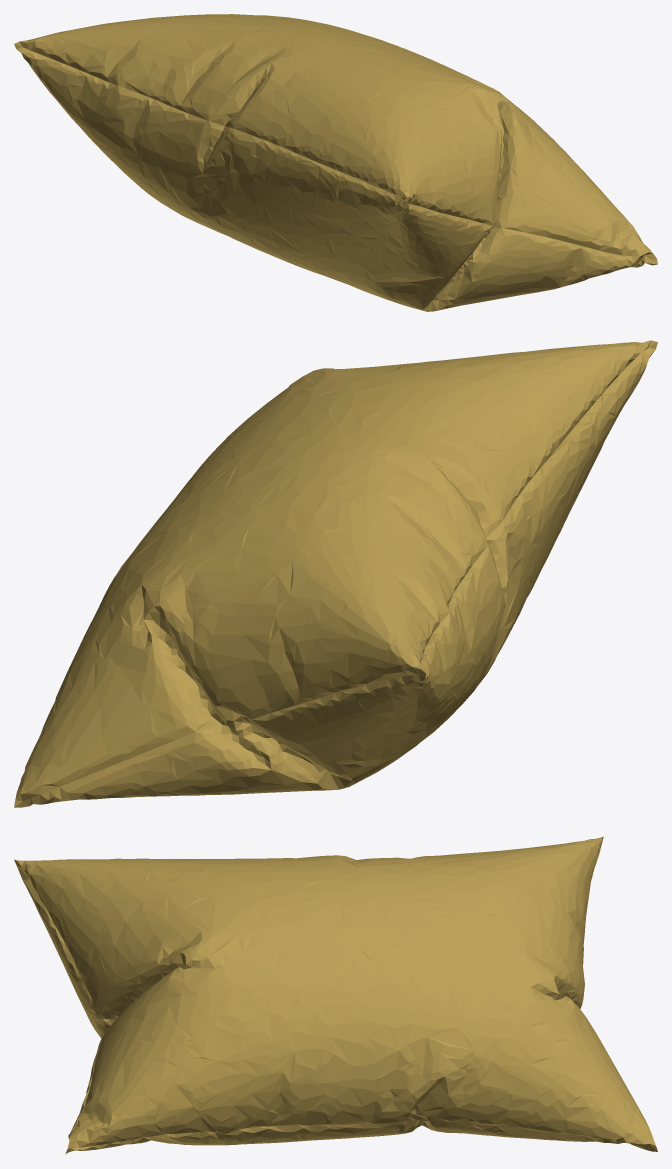
File: Pillow 2.FBX
3 views of the same model, one above another, from view 1: azimuth 30°, elevation 25°; view 2: azimuth 150°, elevation 25°; view 3: azimuth 270°, elevation 25° (orthographic). The views are drawn at different scales.
Parts seen in each view (by area): view 1: pillow 2; view 2: pillow 2; view 3: pillow 2.
Part boxes in pixels (x1,y1,x2,y2): pillow 2: [14, 14, 657, 311]; pillow 2: [14, 340, 657, 807]; pillow 2: [14, 836, 657, 1154].
Size of the model in its own units: 510 by 722 by 271.
